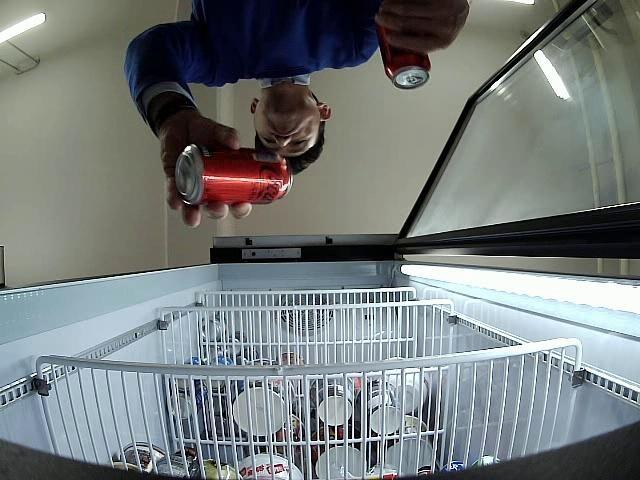11_cocaColaZero: (175, 141, 292, 204), (376, 24, 431, 91)
